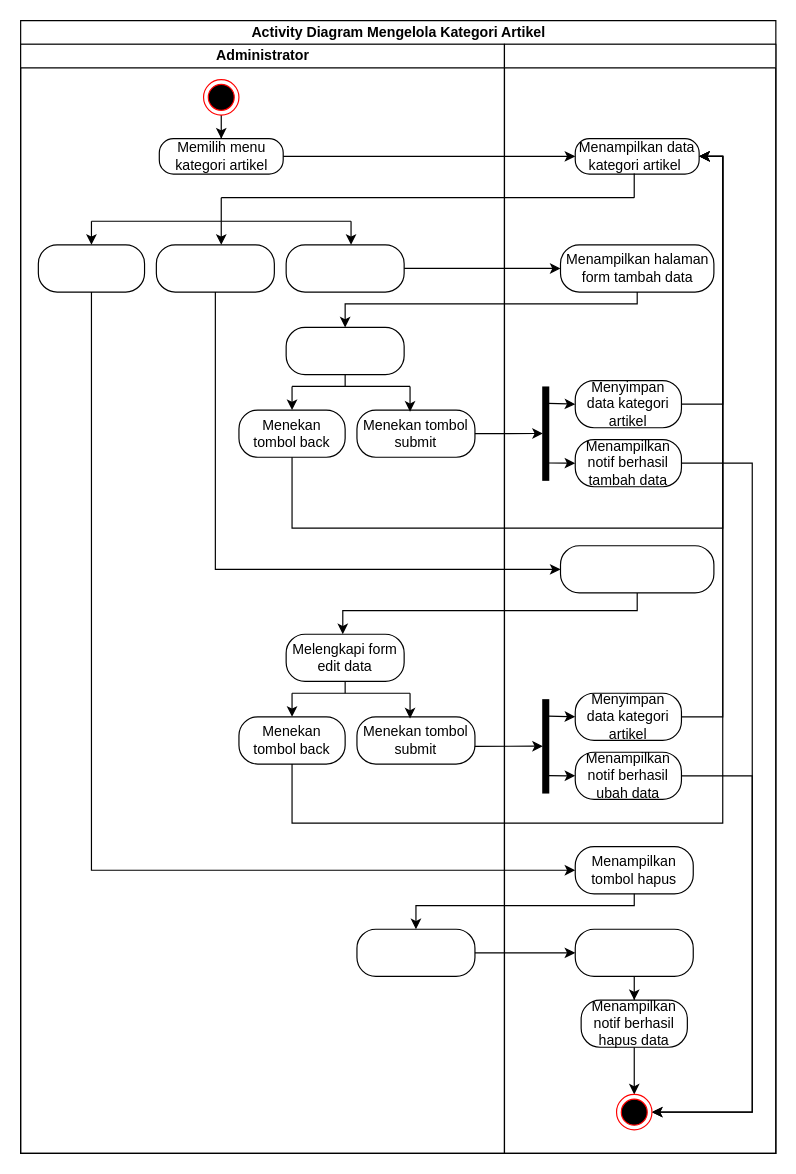
The diagram is 796 pixels wide and 1174 high, and some of its shapes have lost their labels. The box of each missing label's shape, as (x1, y1, x2, y2) in pixels:
Melengkapi form tambah data: (285, 326, 404, 375)
Menampilkan halaman form edit data: (559, 545, 714, 593)
Menekan checkbox: (37, 244, 145, 292)
Menekan tombol edit data: (155, 244, 274, 292)
Menekan tombol hapus: (356, 928, 475, 976)
Menekan tombol tambah data: (285, 244, 404, 292)
Menghapus data kategori artikel: (574, 928, 693, 976)
Sistem: (503, 43, 776, 1153)
